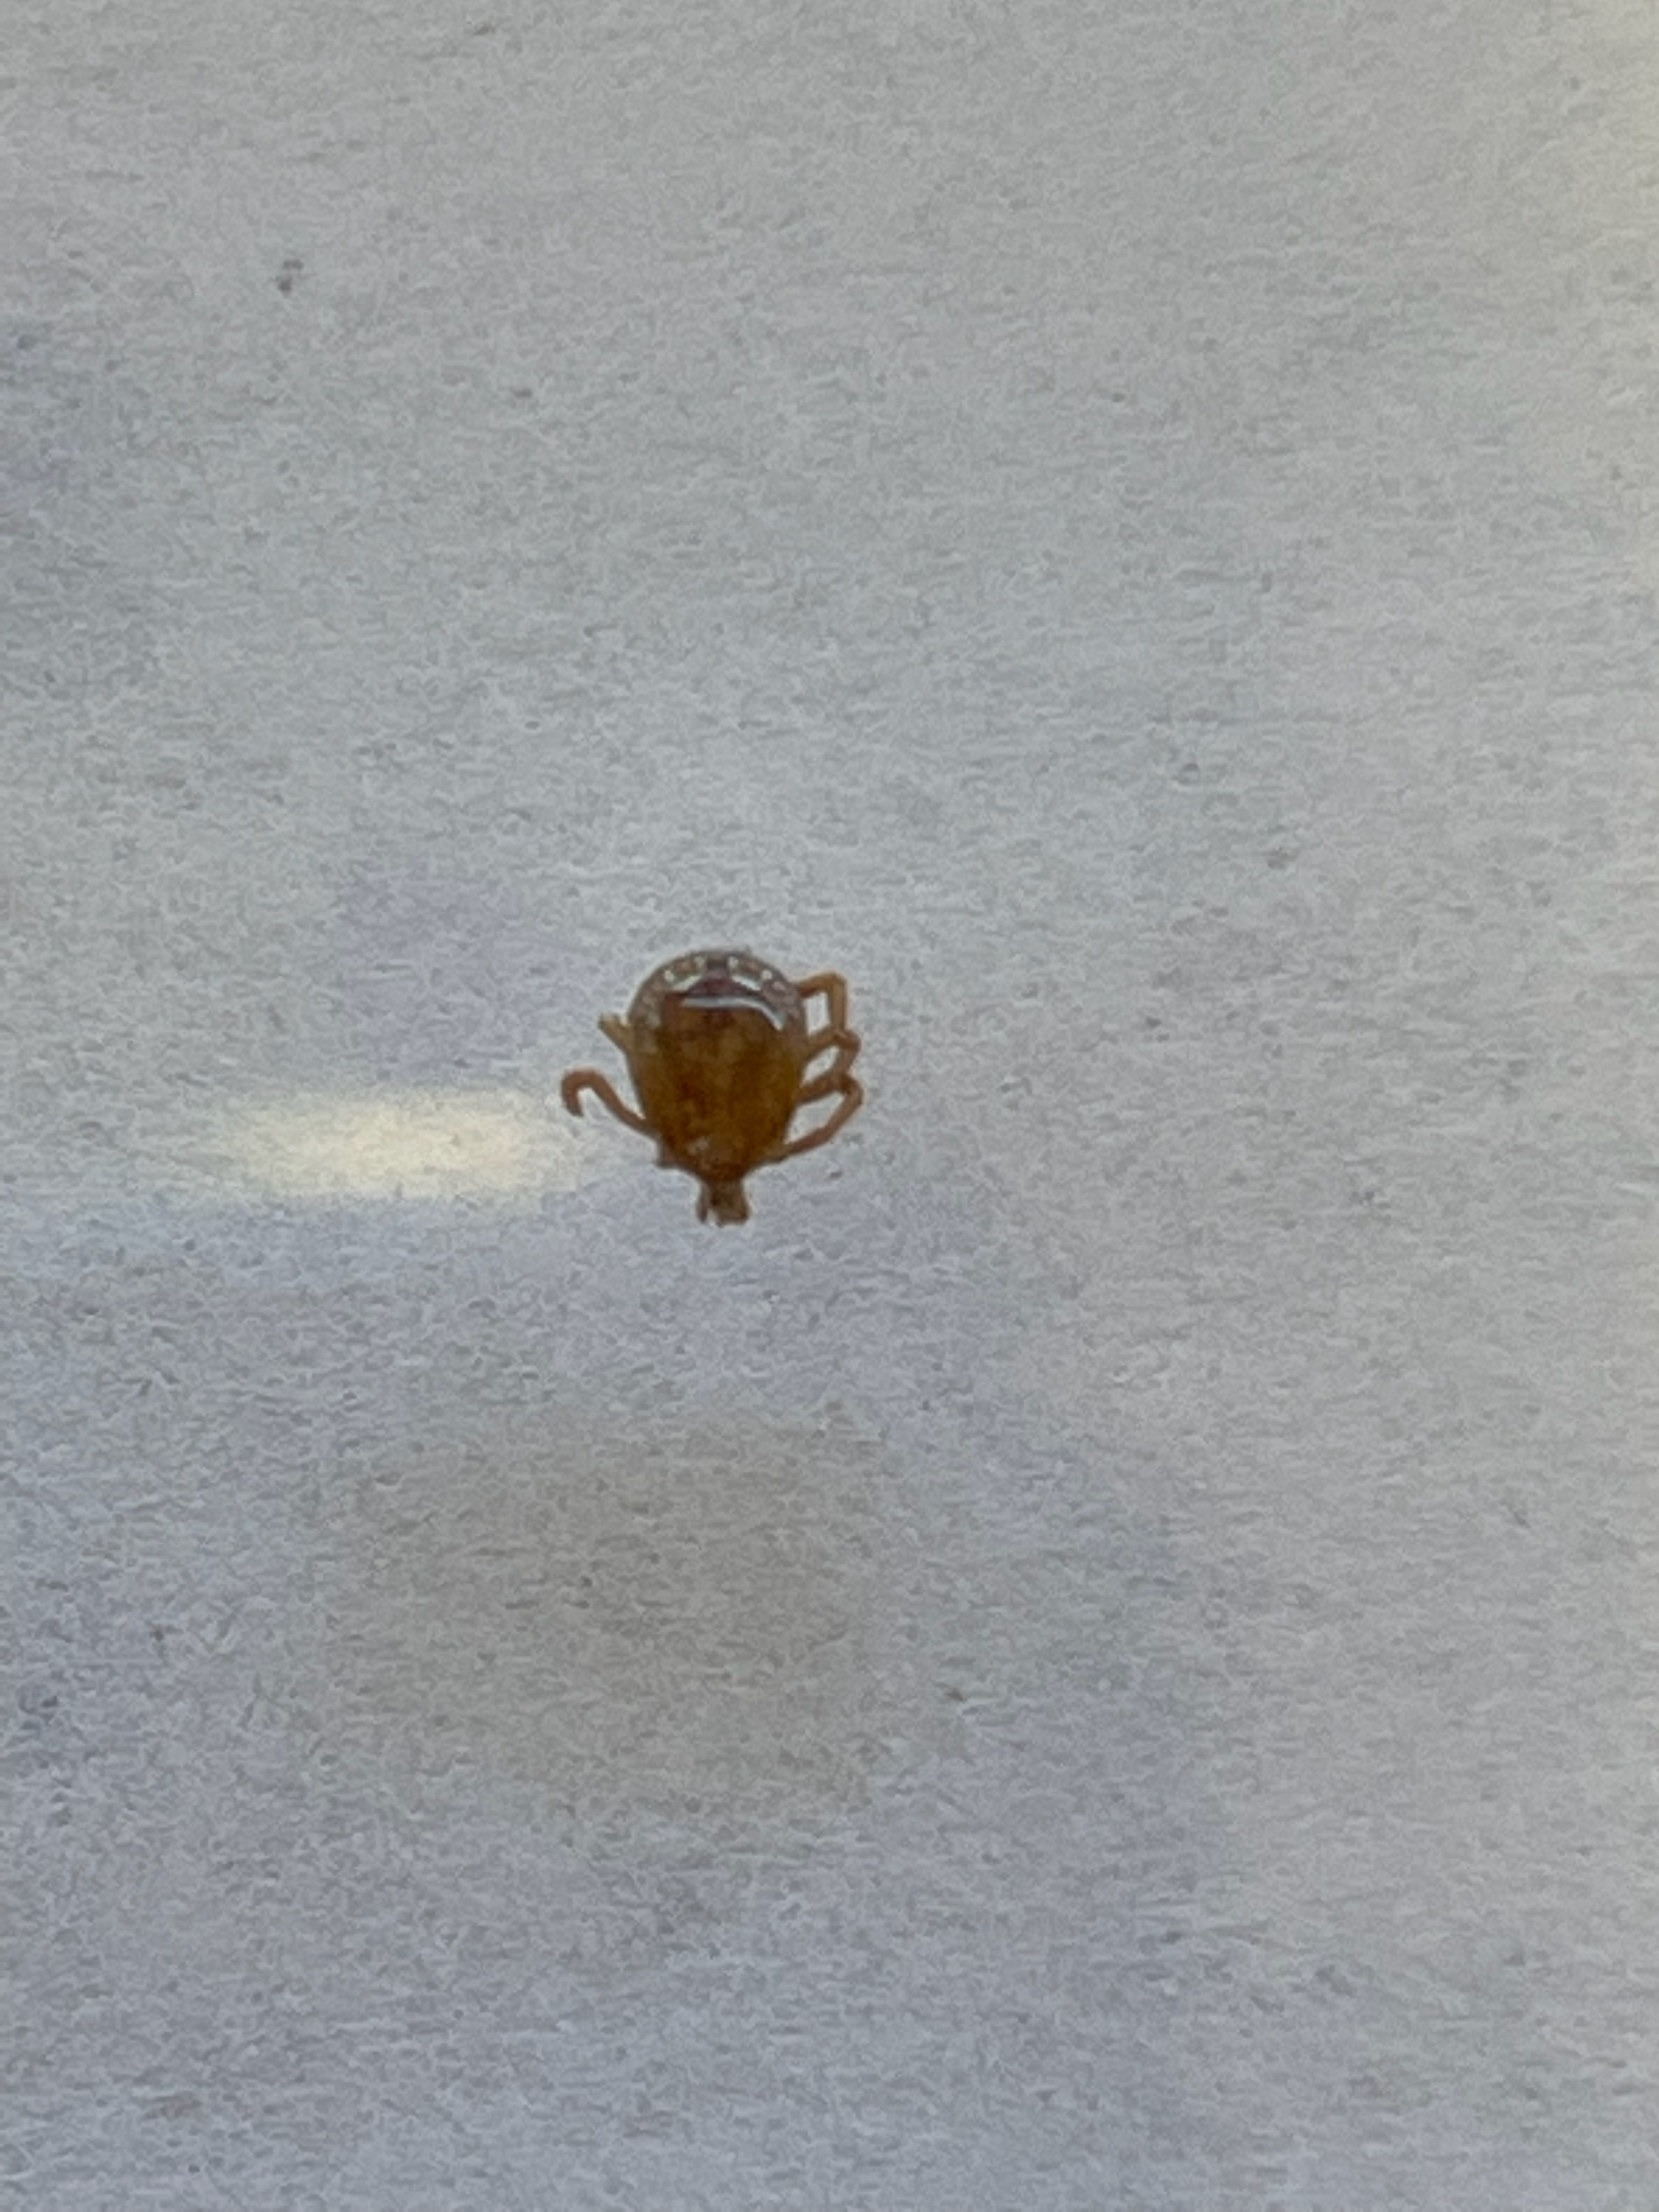unlabelled_tick: (532, 931, 894, 1245)
